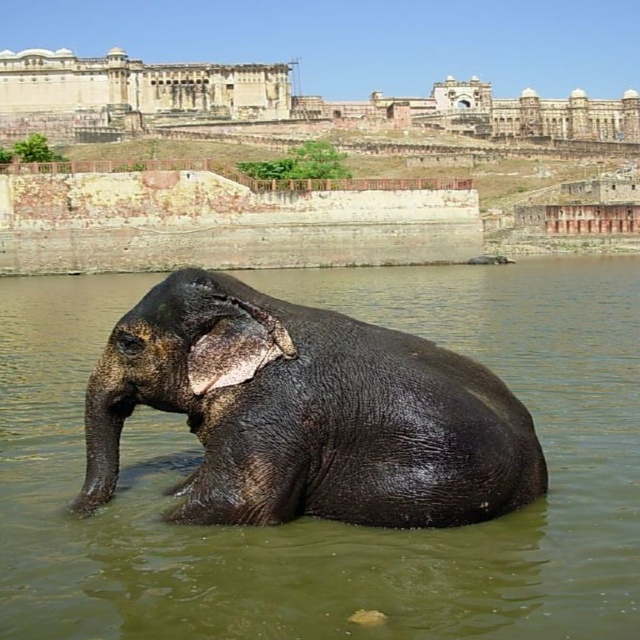Elephant: (54, 266, 544, 534)
